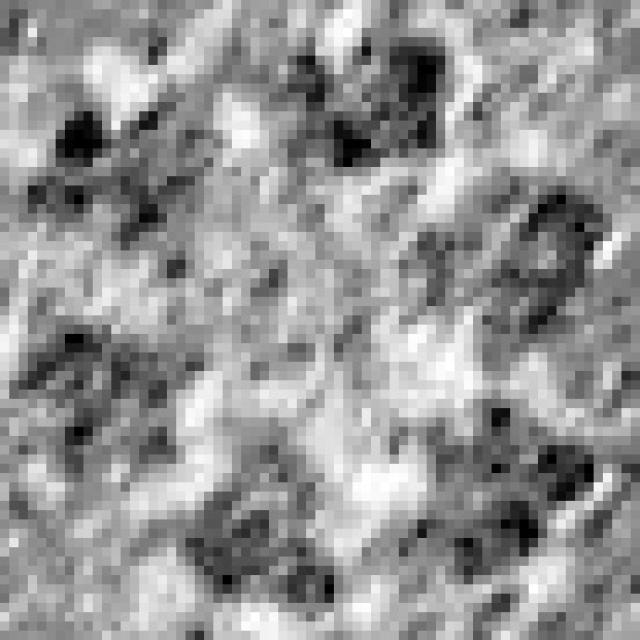inner: (190, 152, 425, 381)
lobe: (373, 394, 607, 599), (22, 82, 223, 293), (397, 173, 617, 349), (176, 407, 345, 625), (9, 320, 193, 475), (284, 25, 456, 171)
outer: (0, 0, 640, 640)
